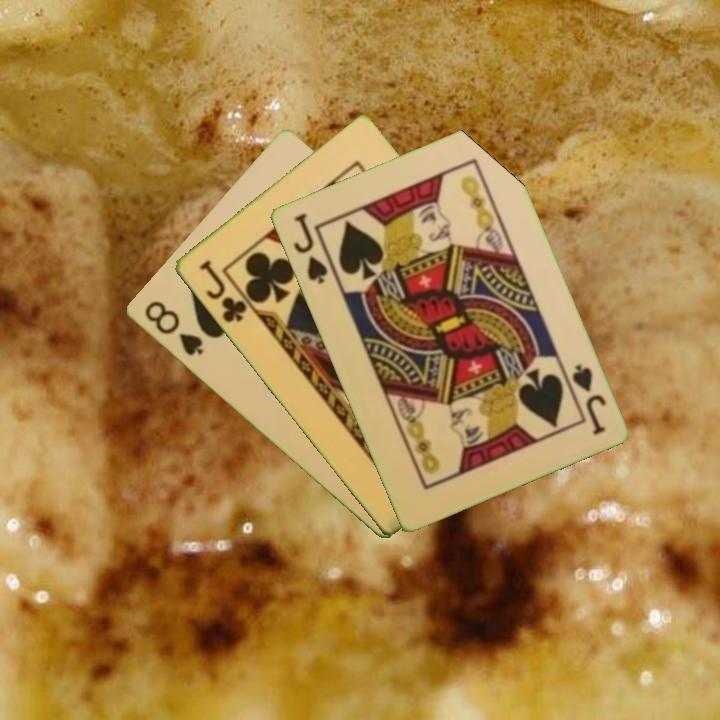8s: (140, 297, 206, 359)
Jc: (195, 256, 249, 326)
Js: (567, 360, 609, 438), (289, 209, 330, 287)
